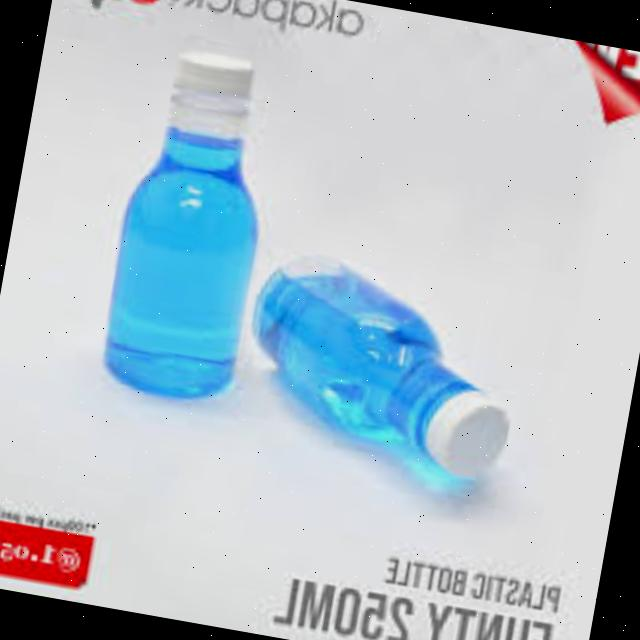trash: (227, 238, 538, 495), (86, 37, 292, 415)
